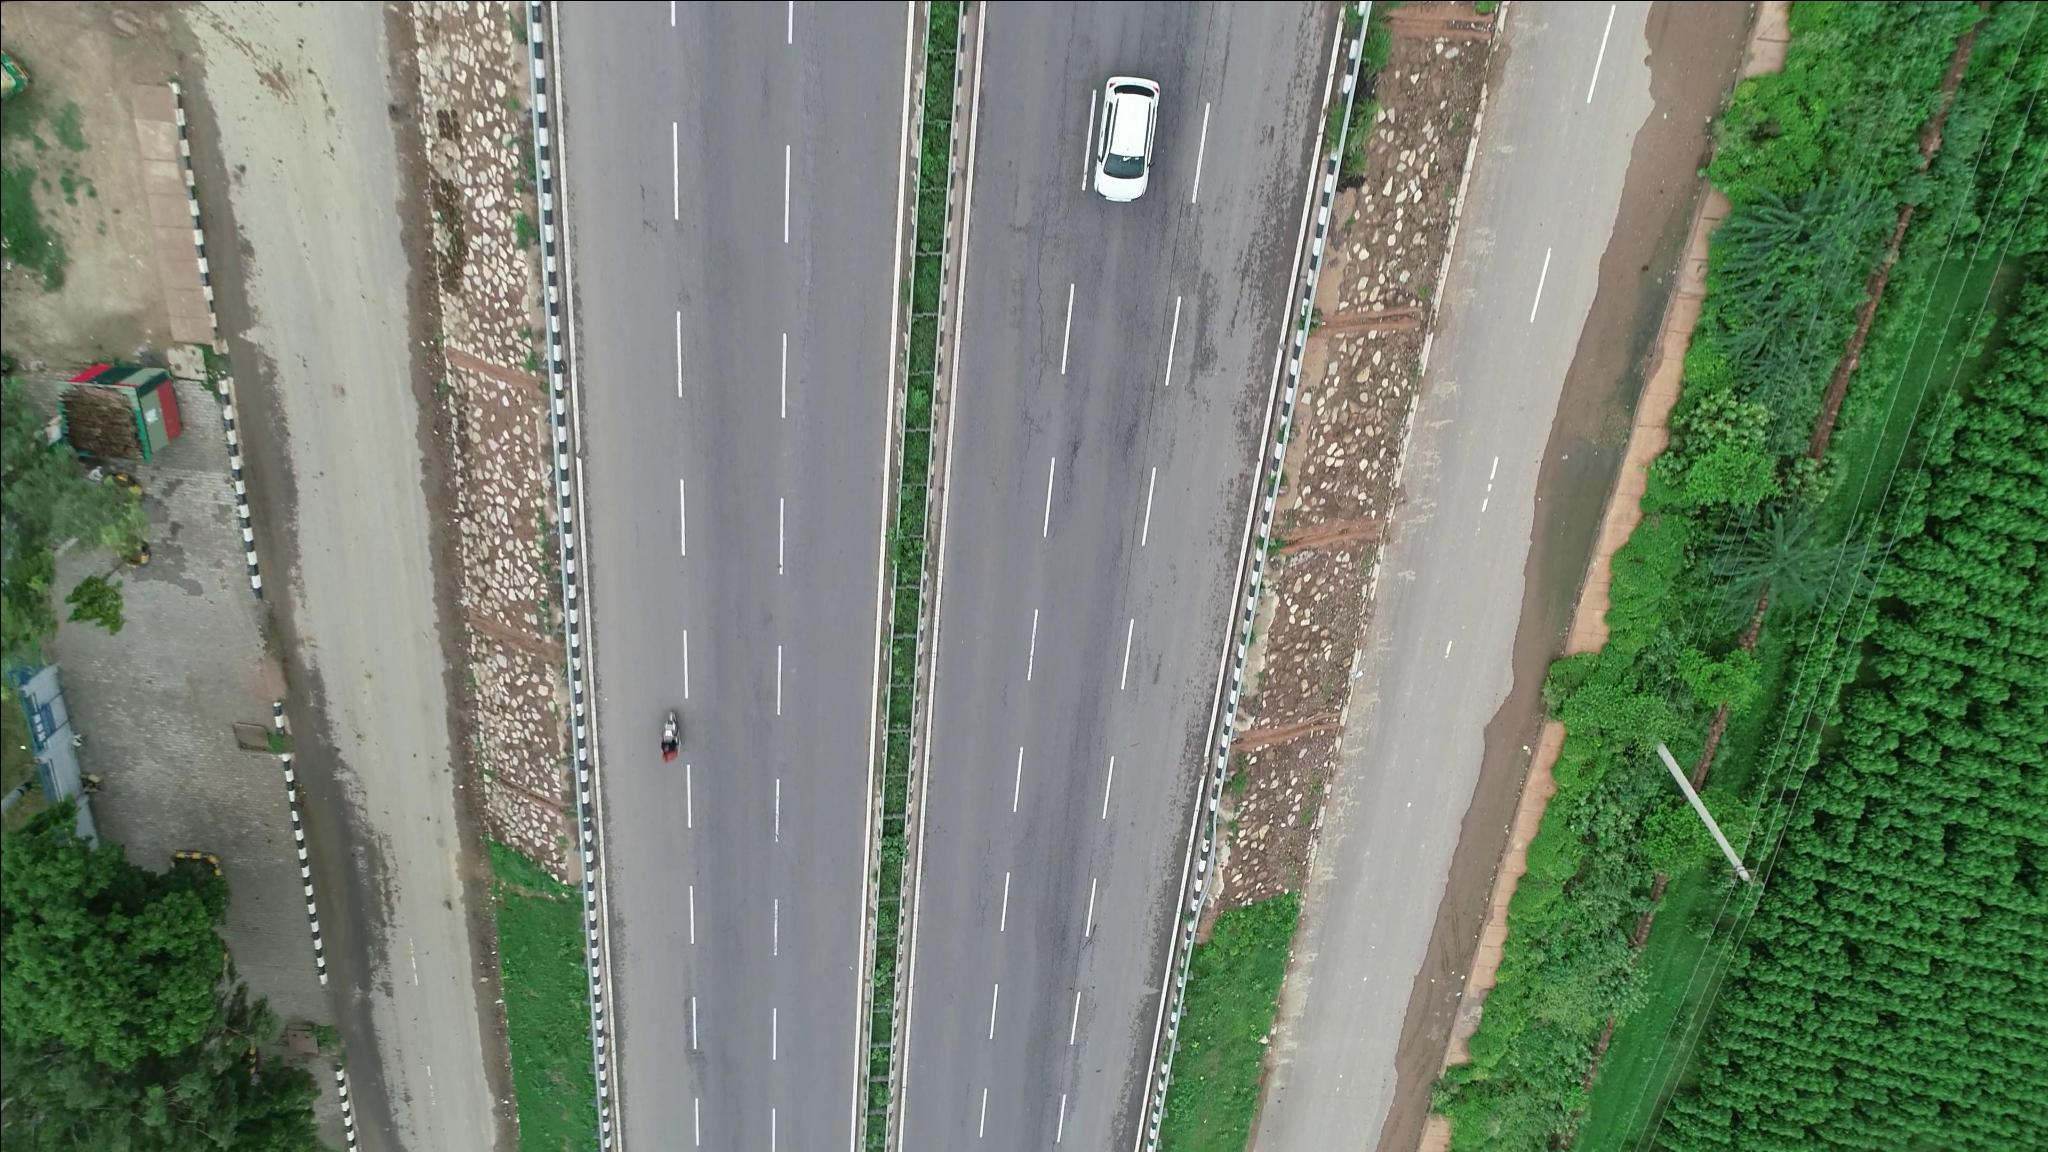Cracks: (1034, 11, 1084, 241), (1021, 245, 1056, 460)
